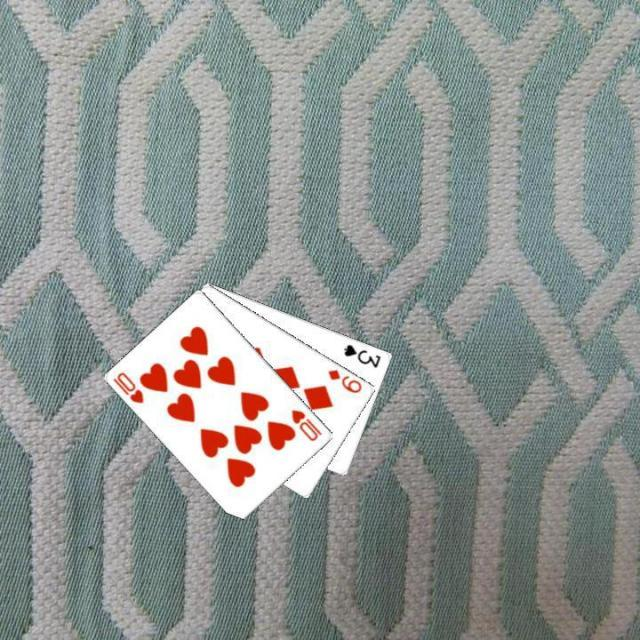10H: (288, 405, 324, 443), (109, 368, 145, 406)
3S: (341, 340, 383, 370)
9D: (325, 365, 365, 395)
